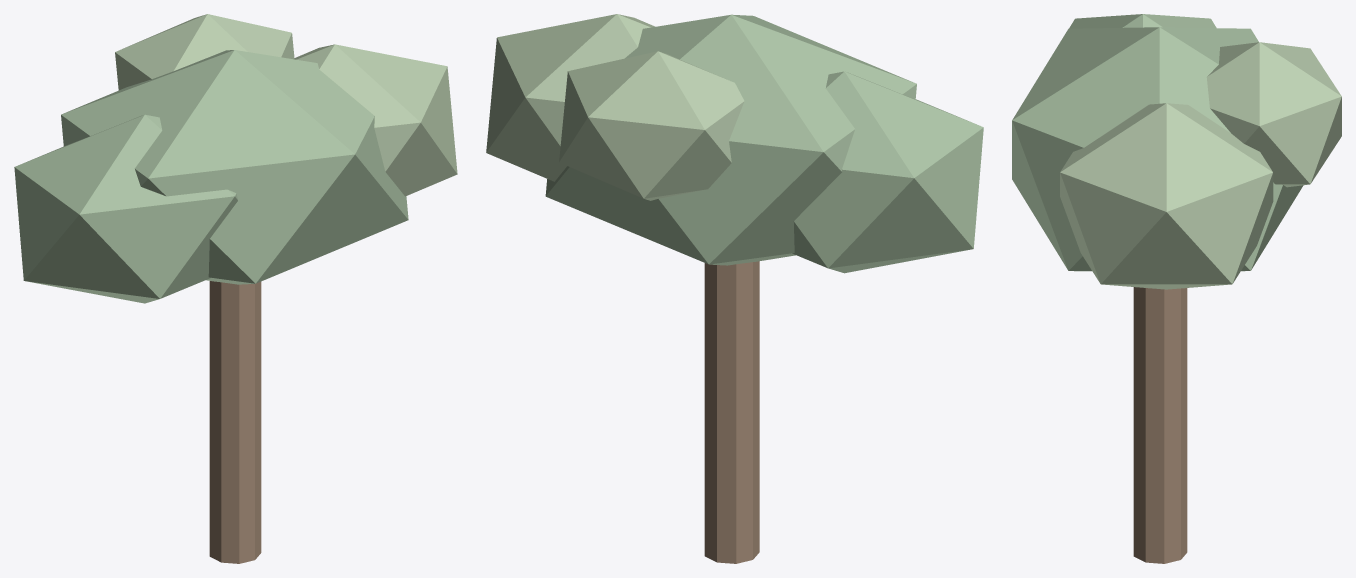
File: la-live-oak.glb
3 renders of one model, left to right at view 1: azimuth 30°, elevation 25°; view 2: azimuth 150°, elevation 25°; view 3: azimuth 270°, elevation 25°, orthographic. The views are drawn at different scales.
Visible parts, largest first — view 1: canopy_0, canopy_2, trunk, canopy_1, canopy_3; view 2: canopy_0, canopy_2, canopy_3, trunk, canopy_1; view 3: canopy_1, canopy_0, trunk, canopy_3, canopy_2.
Part boxes in pixels (left/top/right/bottom): canopy_0: left=61, top=50, right=408, bottom=284; canopy_2: left=14, top=114, right=237, bottom=303; trunk: left=209, top=281, right=261, bottom=563; canopy_1: left=294, top=44, right=457, bottom=196; canopy_3: left=115, top=14, right=294, bottom=90; canopy_0: left=545, top=14, right=916, bottom=265; canopy_2: left=792, top=71, right=983, bottom=273; canopy_3: left=559, top=51, right=744, bottom=200; trunk: left=704, top=261, right=759, bottom=563; canopy_1: left=486, top=14, right=654, bottom=181; canopy_1: left=1060, top=103, right=1273, bottom=289; canopy_0: left=1012, top=27, right=1303, bottom=271; trunk: left=1133, top=287, right=1187, bottom=563; canopy_3: left=1206, top=42, right=1341, bottom=187; canopy_2: left=1069, top=14, right=1216, bottom=28.
Bounding box in the file's own units: 3.78 × 4.18 × 2.38.
